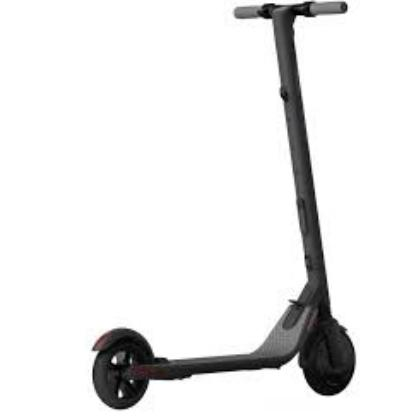bike: (90, 1, 356, 410)
